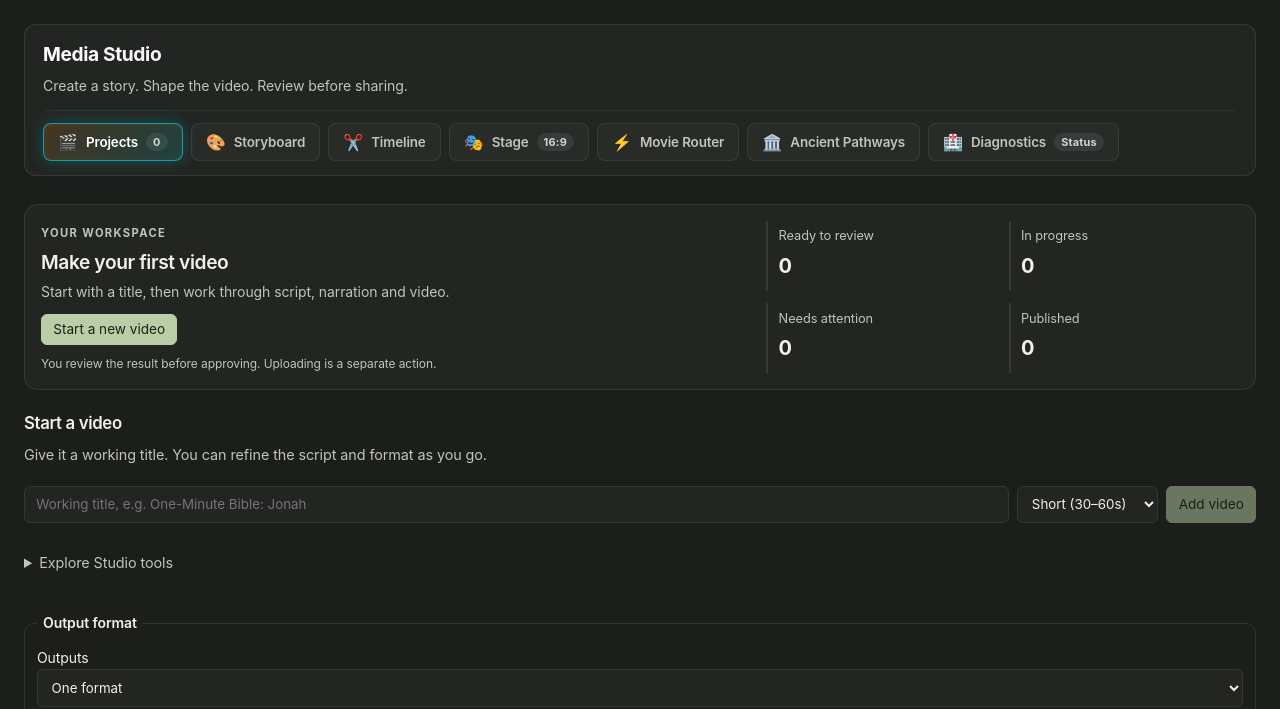
unavailable creation explains recovery and keeps the title
Type "Keep this draft" into the field named "New video title".
click(517, 504); type("Keep this draft")  # box [24,486,1009,523]
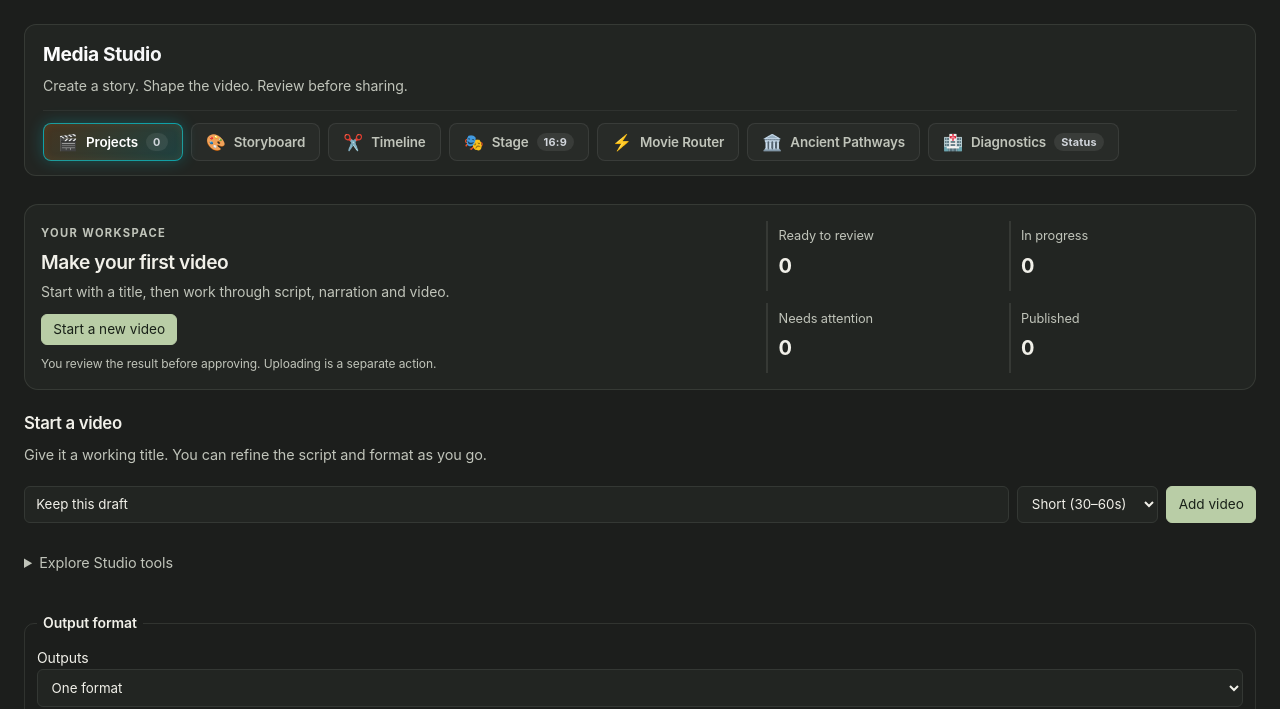
Click the button "Add video".
click(1211, 504)  # box [1166,486,1256,523]
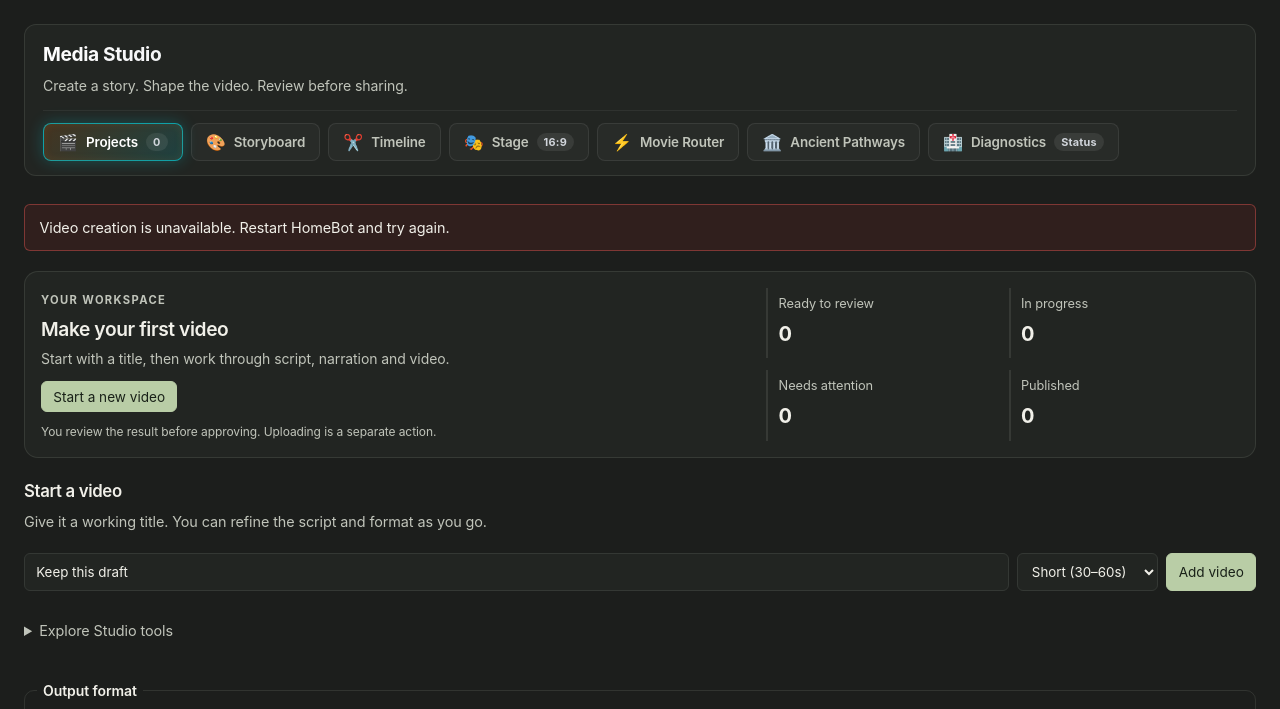
Result: the message shows "Video creation is unavailable" at [39,219,450,236]
